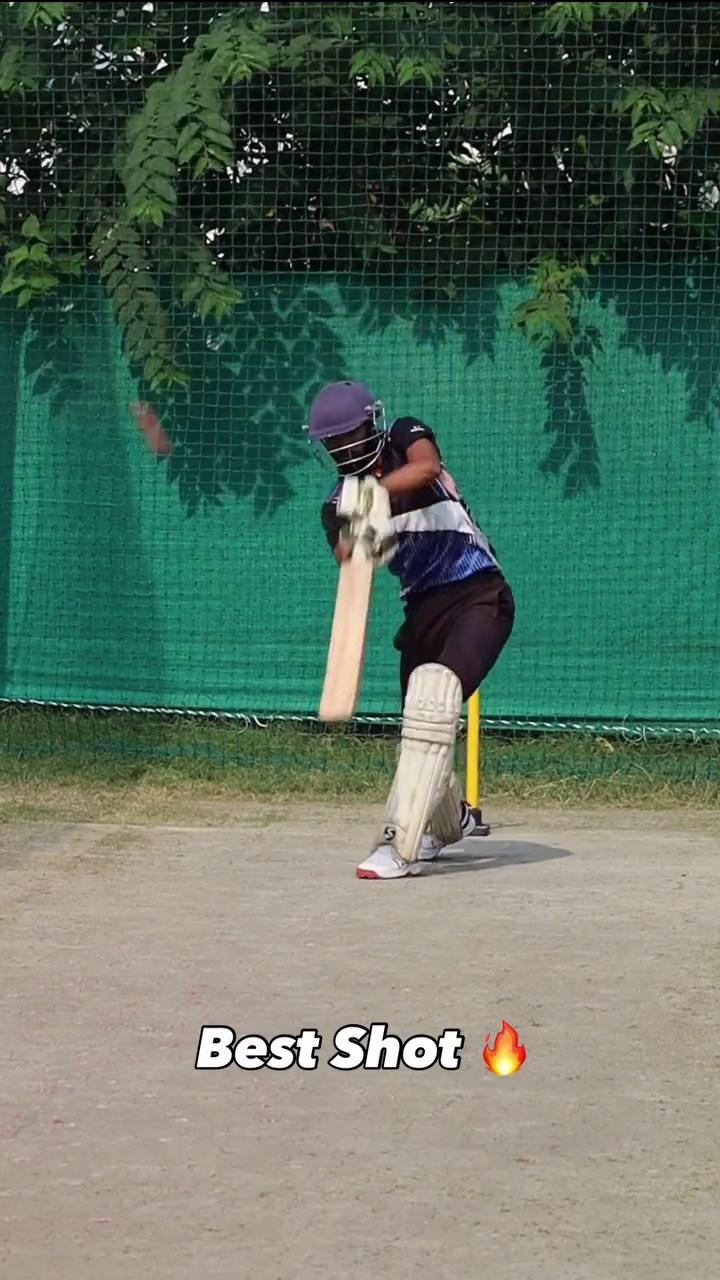bat: (317, 559, 374, 724)
